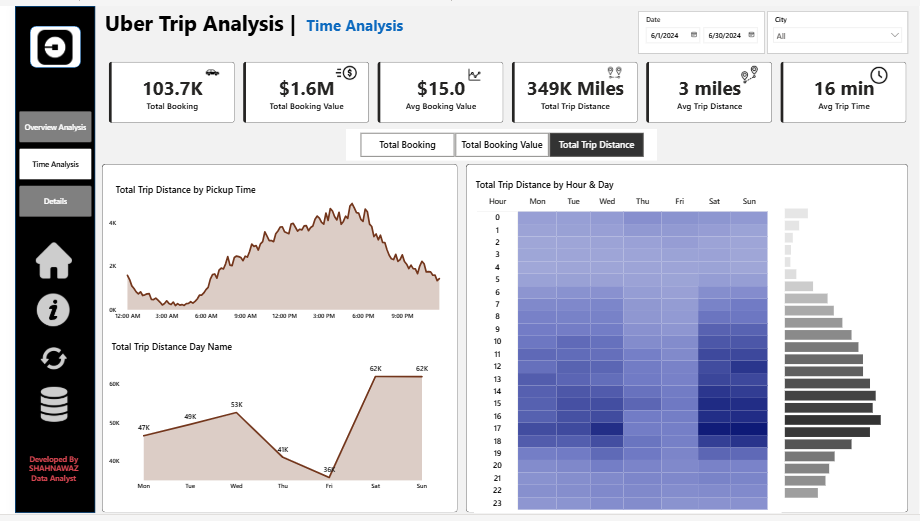

This screenshot's page, from the dashboard's own definition file:
{"tool":"powerbi","page":{"name":"Time Analysis","canvas":[1600,900],"ordinal":1},"visuals":[{"type":"shape","box":[0,0,142.2,898.2],"z":0},{"type":"textbox","box":[154.8,0,673.2,70.2],"z":1000},{"type":"cardVisual","fields":{"Data":["Trip Details.Total Booking","Trip Details.Total Booking Amount","Trip Details.Avg Booking Amount","Trip Details.Total Trip Distance","Trip Details.Avg Trip Distance","Trip Details.Avg Trip Time"]},"box":[162,93.6,1427.4,118.8],"z":2000},{"type":"image","box":[563.4,93.6,46.8,48.6],"z":3000},{"type":"image","box":[1045.8,93.6,34.2,48.6],"z":4000},{"type":"image","box":[1274.4,100.8,57.6,41.4],"z":5000},{"type":"image","box":[1508.4,102.6,46.8,39.6],"z":6000},{"type":"shape","box":[154.8,280.8,630,617.4],"z":7000},{"type":"image","box":[783,104.4,61.2,34.2],"z":8000},{"type":"image","box":[318.6,100.8,61.2,34.2],"z":9000},{"type":"slicer","fields":{"Values":["Dynamic Measure.Dynamic Measure"]},"box":[586.8,217.8,550.8,55.8],"z":10000},{"type":"slicer","fields":{"Values":["Calender Table.Date"]},"box":[1103.4,9,225,75.6],"z":11000},{"type":"slicer","fields":{"Values":["Location Table.City"]},"box":[1332,9,250.2,75.6],"z":12000},{"type":"areaChart","fields":{"Y":["Trip Details.Total Booking"],"Category":["Trip Details.Pickup Hour (HH MM SS) (bins)"]},"box":[162,331.2,615.6,235.8],"z":13000},{"type":"cardVisual","fields":{"Data":["Trip Details.Title for by Pickup Time"]},"box":[162,288,293.4,57.6],"z":14000},{"type":"areaChart","fields":{"Y":["Trip Details.Total Booking"],"Category":["Calender Table.Day Name"]},"box":[162,621,597.6,246.6],"z":15000},{"type":"cardVisual","fields":{"Data":["Trip Details.Title for by Day Name"]},"box":[154.8,567,293.4,57.6],"z":16000},{"type":"shape","box":[799.2,280.8,783,617.4],"z":17000},{"type":"pivotTable","fields":{"Values":["Trip Details.Total Booking"],"Rows":["Trip Details.Pickup Hour"],"Columns":["Calender Table.Day Name"]},"box":[813.6,331.2,545.4,567],"z":18000},{"type":"barChart","fields":{"Y":["Trip Details.Total Booking"],"Category":["Trip Details.Pickup Hour"]},"box":[1359,345.6,196.2,552.6],"z":19000},{"type":"cardVisual","fields":{"Data":["Trip Details.Title for by Hour & Day"]},"box":[799.2,280.8,392.4,57.6],"z":20000},{"type":"shape","box":[27,36,90,73.8],"z":21000},{"type":"image","box":[16.2,37.8,109.8,72],"z":22000},{"type":"pageNavigator","box":[7.2,185.4,129.6,189],"z":23000},{"type":"image","box":[31.7,412.2,73.8,75.6],"z":24000},{"type":"image","box":[41.4,588.6,55.8,72],"z":25000},{"type":"image","box":[34.2,502.2,68.4,73.8],"z":26000},{"type":"image","box":[28.1,669.6,81,72],"z":27000},{"type":"textbox","box":[3.6,788.4,129.6,72],"z":28000}]}

Visuals, with their boxes on the page's 1600x900 design canvas (x1, y1, x2, y2). These are canvas units, not pixel positions in the 920x521 screenshot, which may show the page scaled, cropped or inside an application window:
shape: [0,0,142,898]
textbox: [155,0,828,70]
cardVisual - Trip Details.Total Booking x Trip Details.Total Booking Amount: [162,94,1589,212]
image: [563,94,610,142]
image: [1046,94,1080,142]
image: [1274,101,1332,142]
image: [1508,103,1555,142]
shape: [155,281,785,898]
image: [783,104,844,139]
image: [319,101,380,135]
slicer - Dynamic Measure.Dynamic Measure: [587,218,1138,274]
slicer - Calender Table.Date: [1103,9,1328,85]
slicer - Location Table.City: [1332,9,1582,85]
areaChart - Trip Details.Total Booking x Trip Details.Pickup Hour (HH MM SS) (bins): [162,331,778,567]
cardVisual - Trip Details.Title for by Pickup Time: [162,288,455,346]
areaChart - Trip Details.Total Booking x Calender Table.Day Name: [162,621,760,868]
cardVisual - Trip Details.Title for by Day Name: [155,567,448,625]
shape: [799,281,1582,898]
pivotTable - Trip Details.Total Booking x Trip Details.Pickup Hour: [814,331,1359,898]
barChart - Trip Details.Total Booking x Trip Details.Pickup Hour: [1359,346,1555,898]
cardVisual - Trip Details.Title for by Hour & Day: [799,281,1192,338]
shape: [27,36,117,110]
image: [16,38,126,110]
pageNavigator: [7,185,137,374]
image: [32,412,106,488]
image: [41,589,97,661]
image: [34,502,103,576]
image: [28,670,109,742]
textbox: [4,788,133,860]
